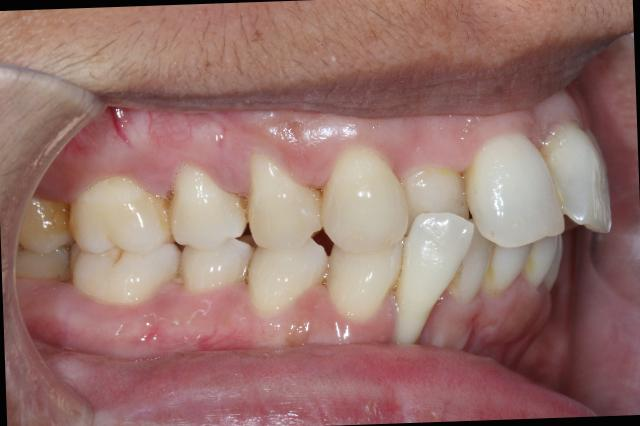canine class II 1/2: (246, 137, 413, 328)
molar class II 1/2: (59, 168, 182, 310)
